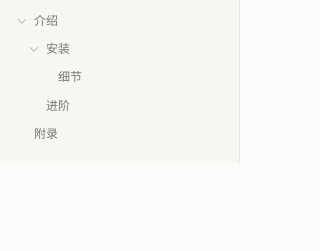
MarkdownTocPanel › shows an error when clipboard write fails
Right-click the button "介绍" at (132, 21), box top-left (32, 8), bottom-right (233, 34)
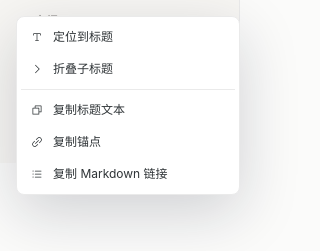
Click the menu item "复制标题文本" at (128, 110), box top-left (21, 94), bottom-right (235, 126)
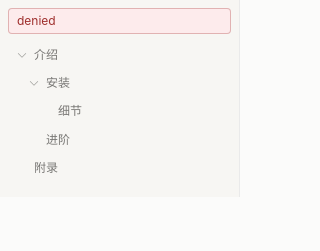
Now the message reads "denied", box top-left (17, 13), bottom-right (56, 28)
